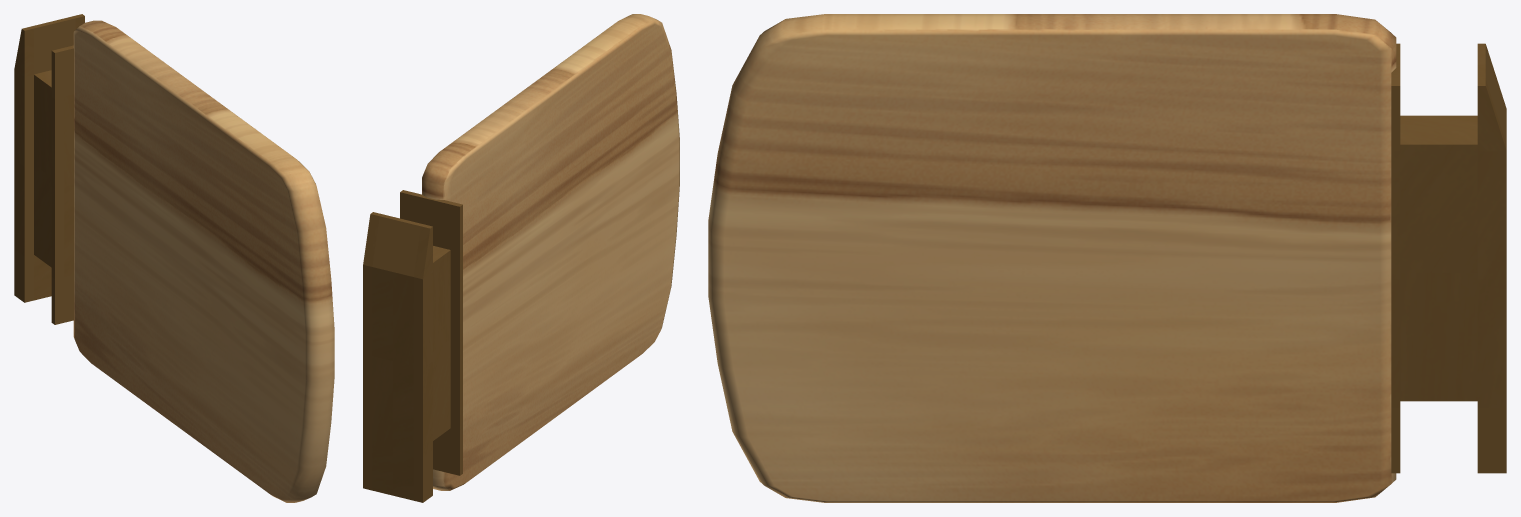
Rendered from hontate.fbx.
3 renders of one model, left to right at view 1: azimuth 30°, elevation 25°; view 2: azimuth 150°, elevation 25°; view 3: azimuth 270°, elevation 25°, orthographic. The views are drawn at different scales.
Parts seen in each view (by area): view 1: hontate; view 2: hontate; view 3: hontate.
Boxes of the visible parts, x1=… form: hontate: x1=14, y1=14, x2=334, y2=502; hontate: x1=363, y1=14, x2=679, y2=502; hontate: x1=708, y1=14, x2=1506, y2=502.
Size of the model in its own units: 42.81 by 226 by 343.
Materials: 2 (2 with a texture image).
